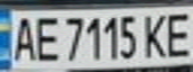1: (84, 12, 103, 61), (103, 12, 121, 60)
5: (118, 11, 142, 60)
7: (60, 14, 84, 62)
A: (6, 12, 39, 63)
E: (160, 8, 193, 59), (30, 12, 60, 63)
K: (139, 10, 172, 60)
